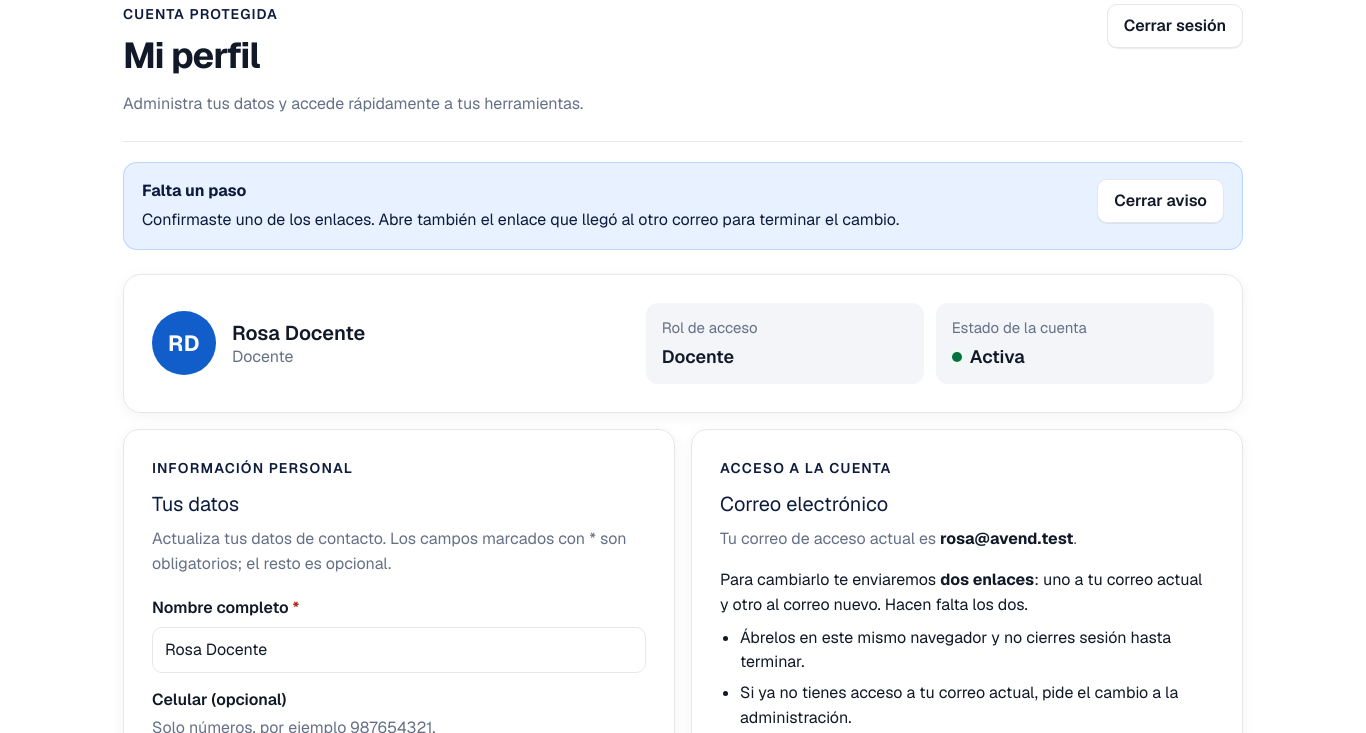
Scenario: Mi perfil › explica el resultado del cambio de correo «pendiente» y limpia la URL
Expected: the text "Abre también el enlace que llegó al otro correo" is shown, [142, 209, 899, 230]
Click the button "Cerrar aviso".
click(1161, 201)  # box [1097, 179, 1224, 224]
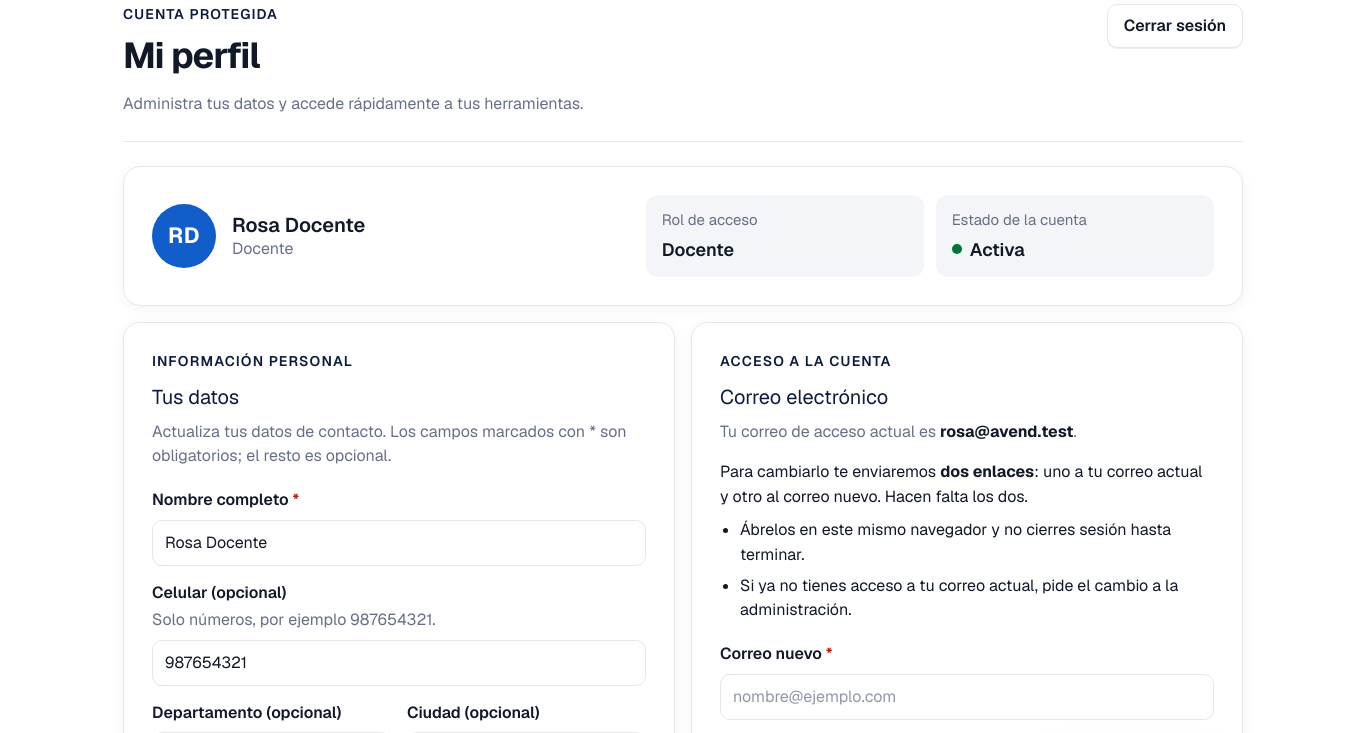
Now the text "Abre también el enlace que llegó al otro correo" is gone
